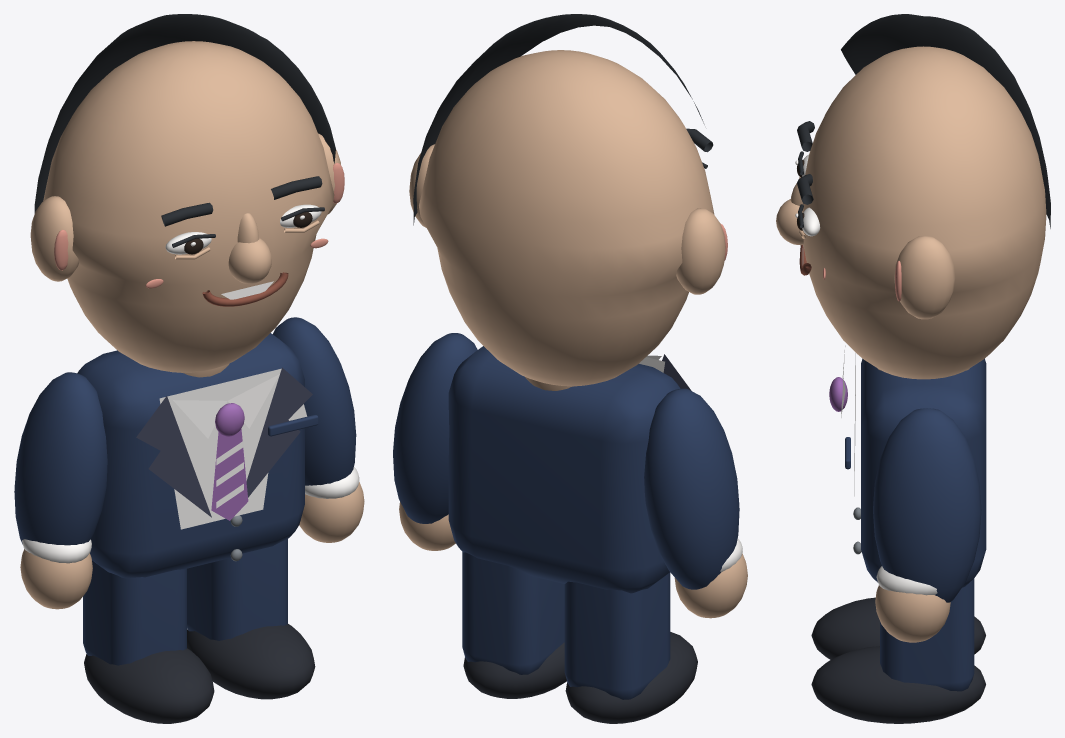
The model's file is xuzhijie.glb.
The picture shows the model from 3 angles, left to right: view 1: azimuth 30°, elevation 25°; view 2: azimuth 150°, elevation 25°; view 3: azimuth 270°, elevation 25°; orthographic projection.
Parts seen in each view (by area): view 1: Trouser, White shirt; view 2: Trouser, White shirt; view 3: Trouser, White shirt.
Boxes of the visible parts, bbox=[...] form: Trouser: bbox=[14, 41, 364, 723]; White shirt: bbox=[34, 14, 335, 529]; Trouser: bbox=[393, 50, 747, 723]; White shirt: bbox=[413, 14, 704, 390]; Trouser: bbox=[776, 46, 1046, 723]; White shirt: bbox=[802, 14, 1050, 496].
Bounding box in the file's own units: 1.56 × 3 × 1.12.
Materials: 2 (2 with a texture image).
